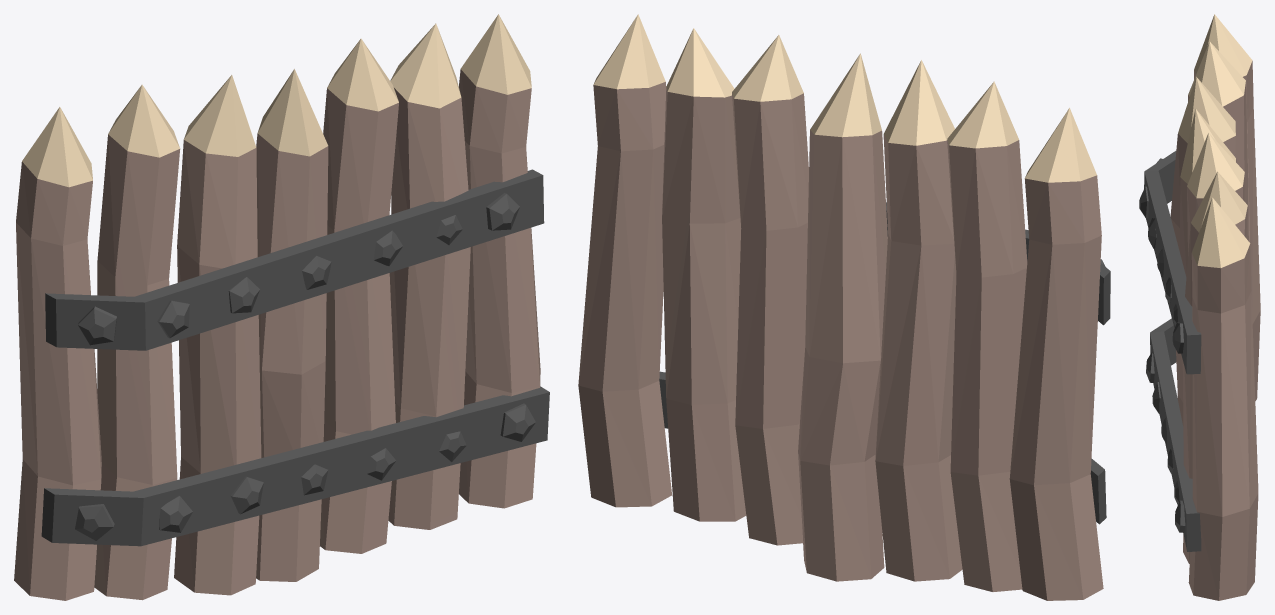
The model's file is Jump_5.fbx.
3 views of the same model, side by side, from view 1: azimuth 30°, elevation 25°; view 2: azimuth 150°, elevation 25°; view 3: azimuth 270°, elevation 25° (orthographic). The views are drawn at different scales.
Visible parts, largest first — view 1: mesh_1704348946.001; view 2: mesh_1704348946.001; view 3: mesh_1704348946.001.
Boxes of the visible parts, x1,y1,x2,y2 form: mesh_1704348946.001: (14, 14, 549, 600); mesh_1704348946.001: (578, 14, 1110, 600); mesh_1704348946.001: (1139, 14, 1260, 600).
Size of the model in its own units: 2.05 by 1.98 by 0.5161.
